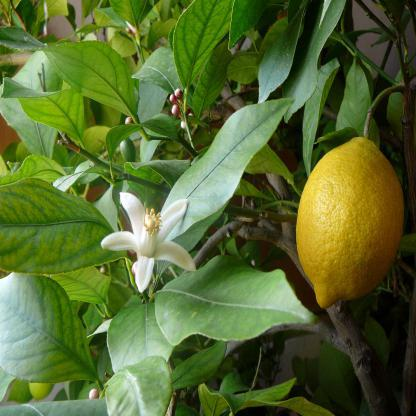lemon: (295, 132, 406, 320)
